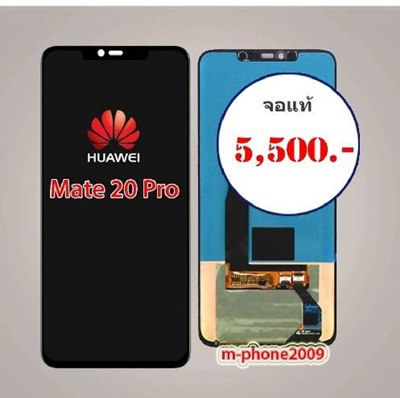Phone: (39, 45, 193, 370), (197, 48, 339, 367)
